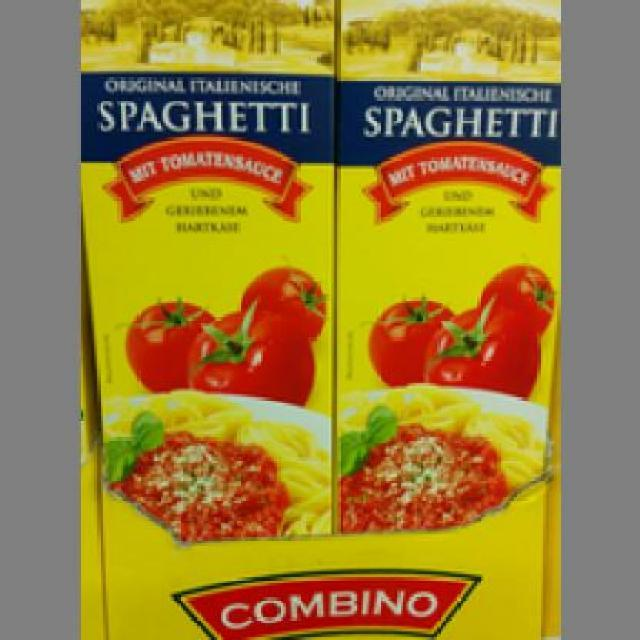Pasta: (76, 0, 332, 537), (332, 0, 558, 529)
